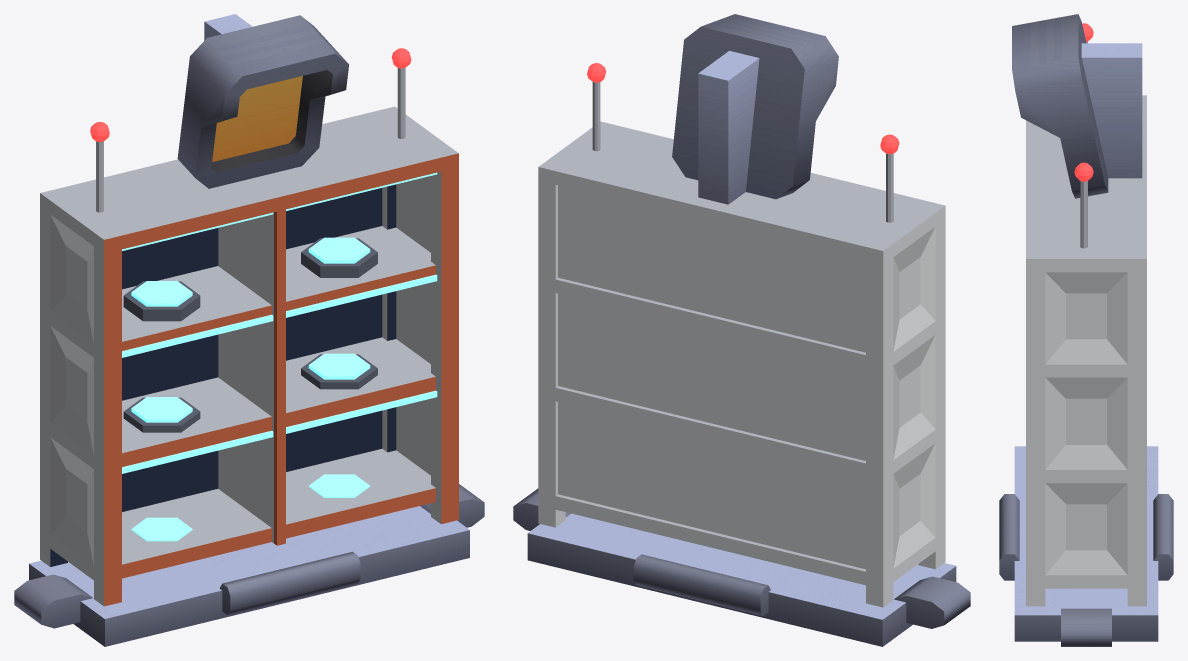
File: estante.glb
The picture shows the model from 3 angles, left to right: view 1: azimuth 30°, elevation 25°; view 2: azimuth 150°, elevation 25°; view 3: azimuth 270°, elevation 25°; orthographic projection. The views are drawn at different scales.
Parts seen in each view (by area): view 1: bookcaseClosedWide(Clone), structure-panel, display-wall, divisoria, divisoria-frente, luz-0, luz-1, pedestal-4, pedestal-5, pedestal-anel-5, pedestal-anel-3, pedestal-anel-4 (+6 smaller); view 2: bookcaseClosedWide(Clone), structure-panel, display-wall; view 3: bookcaseClosedWide(Clone), display-wall, structure-panel, antena-1, antena-luz-1.
Boxes of the visible parts, x1=… form: bookcaseClosedWide(Clone): x1=40, y1=106, x2=458, y2=606; structure-panel: x1=14, y1=484, x2=484, y2=646; display-wall: x1=177, y1=14, x2=349, y2=188; divisoria: x1=218, y1=212, x2=273, y2=543; divisoria-frente: x1=274, y1=209, x2=285, y2=545; luz-0: x1=122, y1=390, x2=437, y2=473; luz-1: x1=122, y1=274, x2=437, y2=357; pedestal-4: x1=123, y1=281, x2=200, y2=321; pedestal-5: x1=301, y1=238, x2=377, y2=277; pedestal-anel-5: x1=308, y1=237, x2=370, y2=263; pedestal-anel-3: x1=308, y1=353, x2=370, y2=379; pedestal-anel-4: x1=131, y1=281, x2=192, y2=306; bookcaseClosedWide(Clone): x1=538, y1=121, x2=945, y2=607; structure-panel: x1=513, y1=488, x2=970, y2=646; display-wall: x1=672, y1=14, x2=838, y2=204; bookcaseClosedWide(Clone): x1=1026, y1=95, x2=1146, y2=606; display-wall: x1=1012, y1=14, x2=1142, y2=198; structure-panel: x1=999, y1=446, x2=1173, y2=646; antena-1: x1=1080, y1=181, x2=1087, y2=248; antena-luz-1: x1=1074, y1=162, x2=1093, y2=181.
Bounding box in the file's own units: 1.71 × 2.03 × 0.6142.
9 materials, 2 textured.
